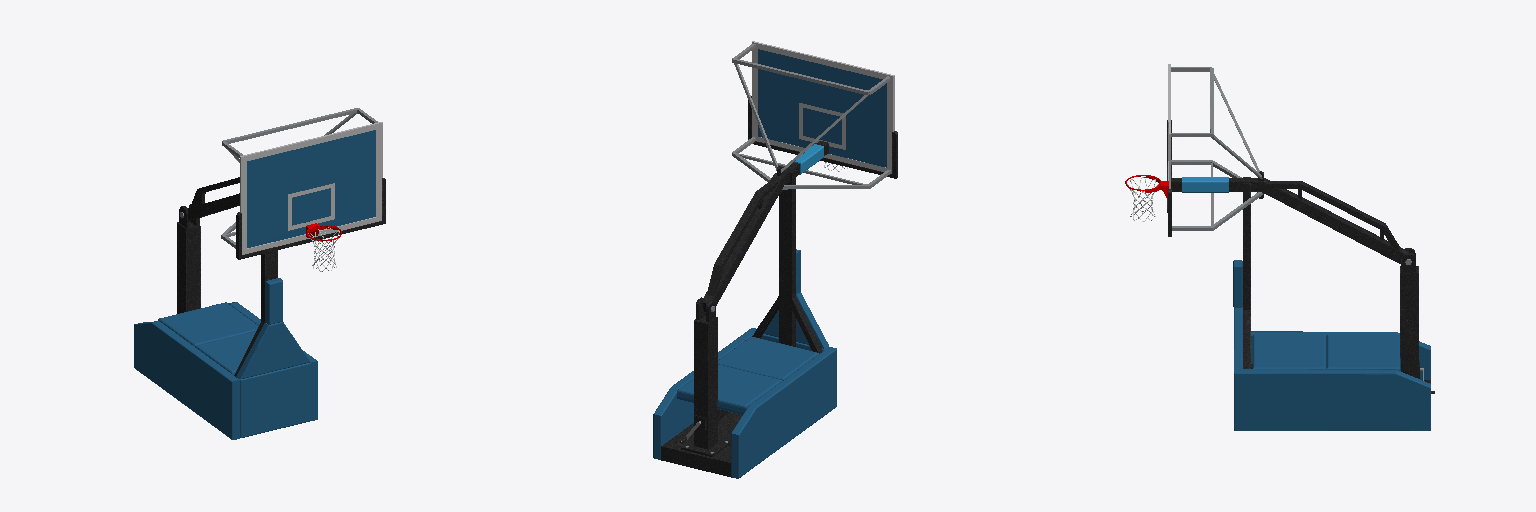
3 renders of one model, left to right at view 1: azimuth 30°, elevation 25°; view 2: azimuth 150°, elevation 25°; view 3: azimuth 270°, elevation 25°, orthographic.
Parts seen in each view (by area): view 1: Goal, Board, Basketballrim; view 2: Goal, Board; view 3: Goal, Basketballrim.
Part boxes in pixels (left/top/right/bottom): Goal: left=134, top=108, right=385, bottom=439; Board: left=247, top=130, right=375, bottom=247; Basketballrim: left=306, top=223, right=341, bottom=271; Goal: left=653, top=41, right=897, bottom=478; Board: left=758, top=49, right=886, bottom=167; Goal: left=1167, top=64, right=1434, bottom=430; Basketballrim: left=1125, top=175, right=1168, bottom=221.
Size of the model in its own units: 191 by 387 by 346.
Materials: 3 (3 with a texture image).